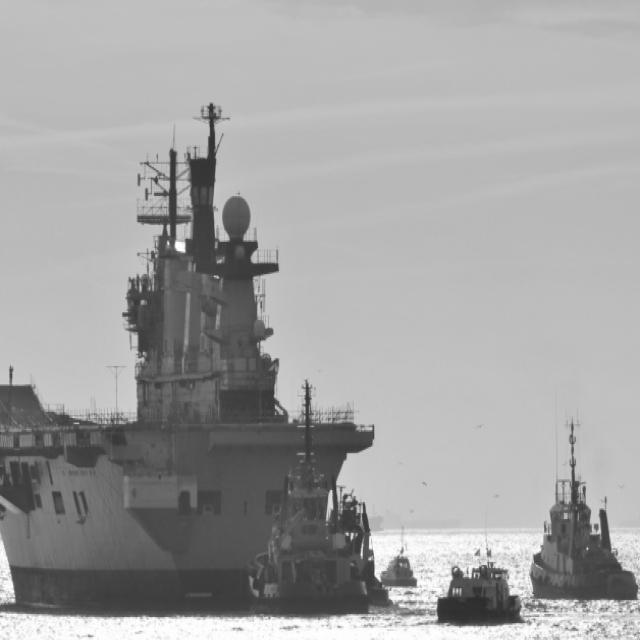Portanaves: (1, 96, 387, 619)
